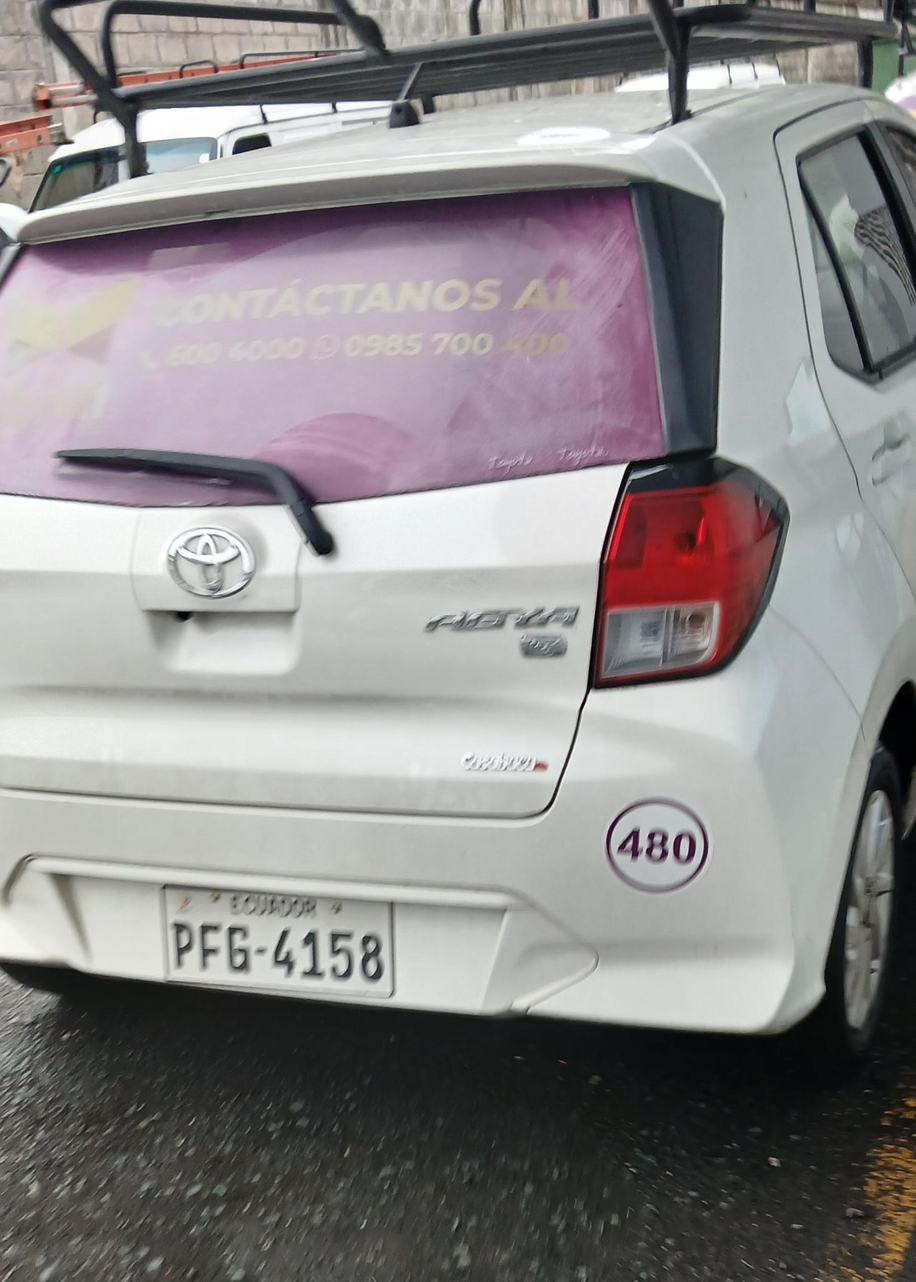license_plate: (163, 886, 391, 999)
